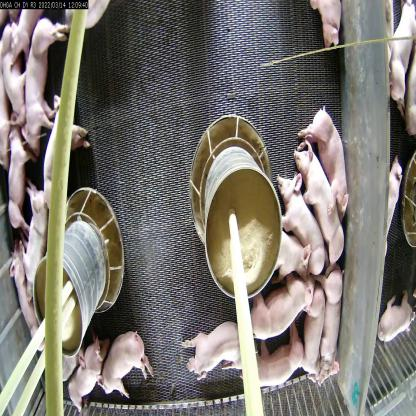Pig: (14, 14, 64, 142), (294, 139, 345, 258), (236, 328, 314, 398), (43, 87, 86, 213), (298, 107, 348, 214), (278, 168, 328, 274), (94, 327, 155, 404), (180, 314, 250, 381), (248, 273, 311, 345), (7, 243, 43, 365), (58, 343, 114, 412), (18, 183, 52, 293), (319, 258, 344, 386), (269, 219, 311, 284), (4, 124, 29, 230), (302, 282, 328, 378)
